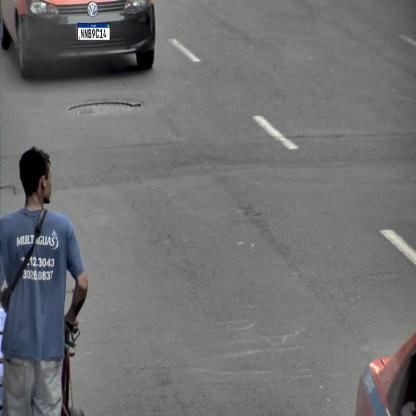PlacaM: (78, 23, 110, 41)
